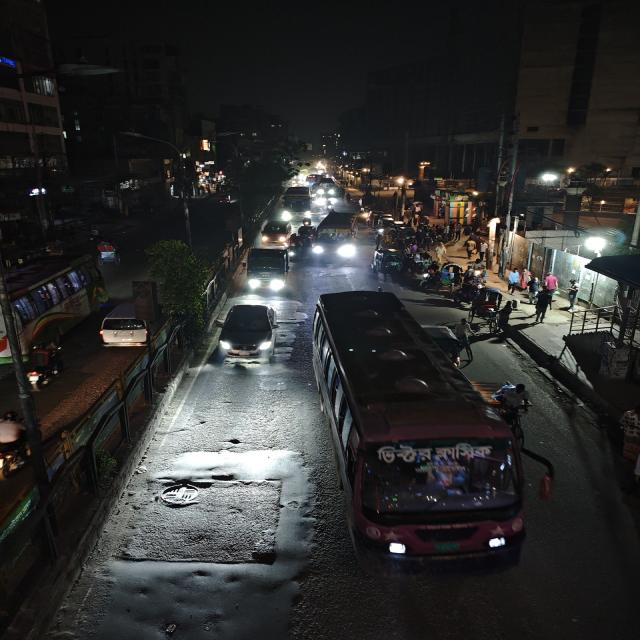bus: (311, 290, 526, 570), (0, 252, 104, 370), (313, 210, 359, 266), (280, 185, 314, 217), (320, 178, 338, 196)
car: (97, 280, 160, 350), (216, 299, 281, 366), (257, 218, 293, 247)
cng: (371, 247, 404, 276)
motorcycle: (20, 341, 66, 393), (0, 408, 33, 473), (323, 198, 336, 211)
pedestrian: (532, 286, 556, 322), (542, 272, 560, 314), (494, 299, 517, 329), (507, 266, 522, 294), (525, 273, 538, 295)
rickshaw: (94, 236, 122, 266)
truck: (243, 245, 294, 296)
